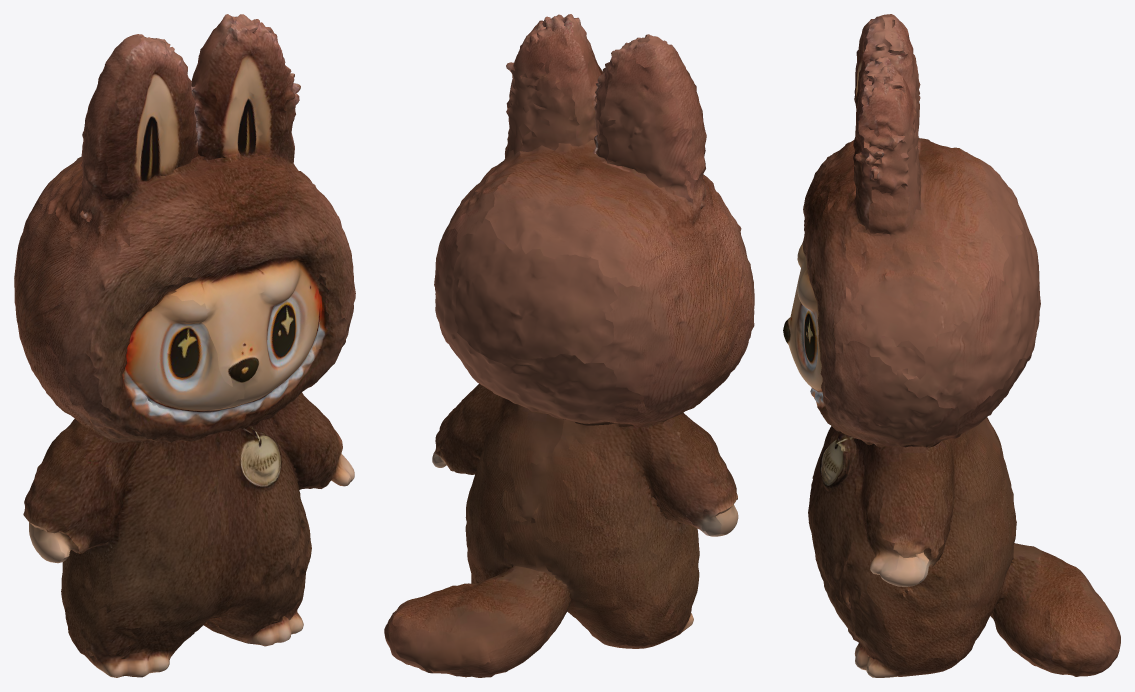
File: labubu.glb
3 views of the same model, side by side, from view 1: azimuth 30°, elevation 25°; view 2: azimuth 150°, elevation 25°; view 3: azimuth 270°, elevation 25° (orthographic). The views are drawn at different scales.
Visible parts, largest first — view 1: textured_mesh.obj; view 2: textured_mesh.obj; view 3: textured_mesh.obj.
Boxes of the visible parts, left/top/right/bottom form: textured_mesh.obj: left=14, top=14, right=355, bottom=677; textured_mesh.obj: left=384, top=14, right=754, bottom=677; textured_mesh.obj: left=783, top=14, right=1120, bottom=677.
Bounding box in the file's own units: 1.05 × 1.99 × 1.03.
1 material, 1 textured.
